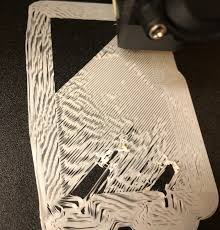fail: (48, 82, 181, 201), (14, 1, 65, 187), (41, 186, 185, 230)
